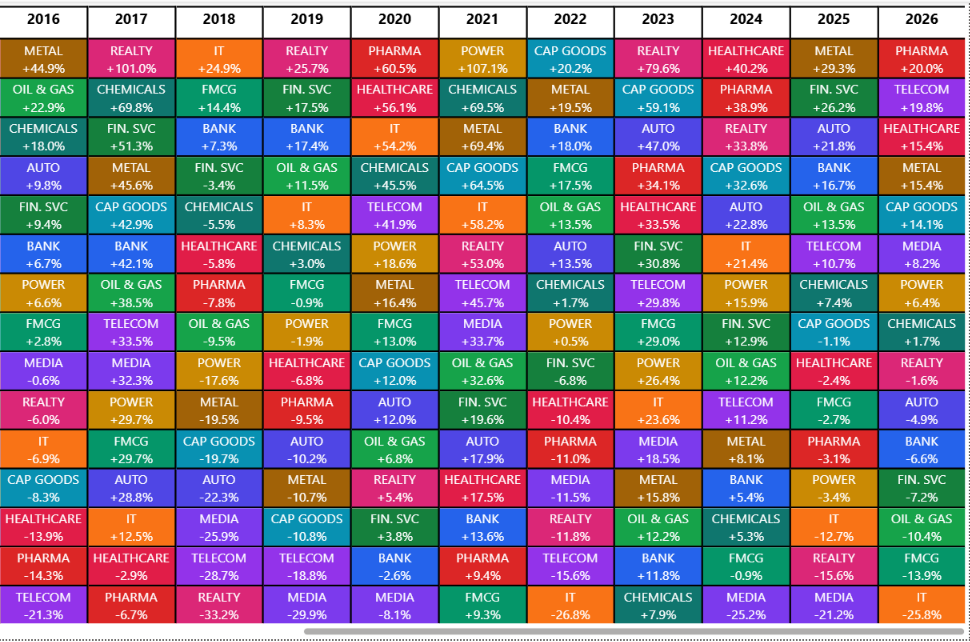

The page's visual inventory and layout, read from the dashboard file:
{"tool":"powerbi","page":{"name":"Page 1","canvas":[1280,720],"ordinal":0},"visuals":[{"type":"pivotTable","fields":{"Rows":["Rank Table.Rank"],"Columns":["Date Table.Year"],"Values":["Combine Data.Sector Return Label"]},"box":[0,0,1280.2,719.8],"z":0}]}

Visuals, with their boxes on the page's 1280x720 design canvas (x1, y1, x2, y2). These are canvas units, not pixel positions in the 970x642 screenshot, which may show the page scaled, cropped or inside an application window:
pivotTable - Rank Table.Rank x Date Table.Year: 0:0:1280:720
